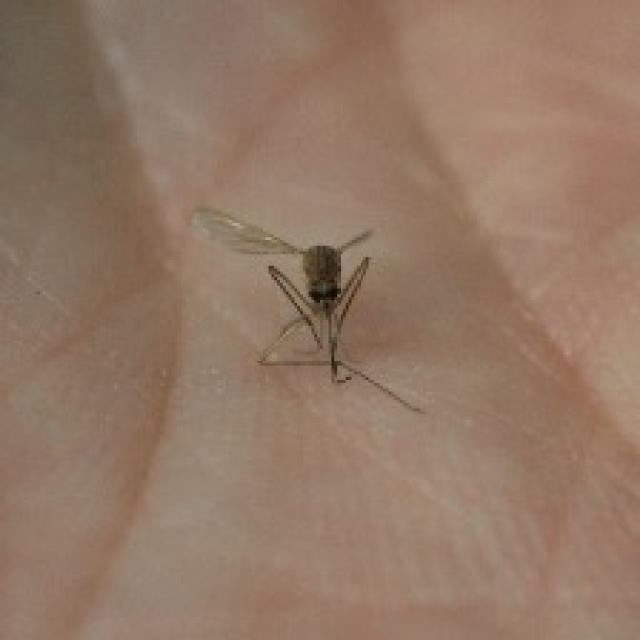culex: (188, 203, 423, 411)
